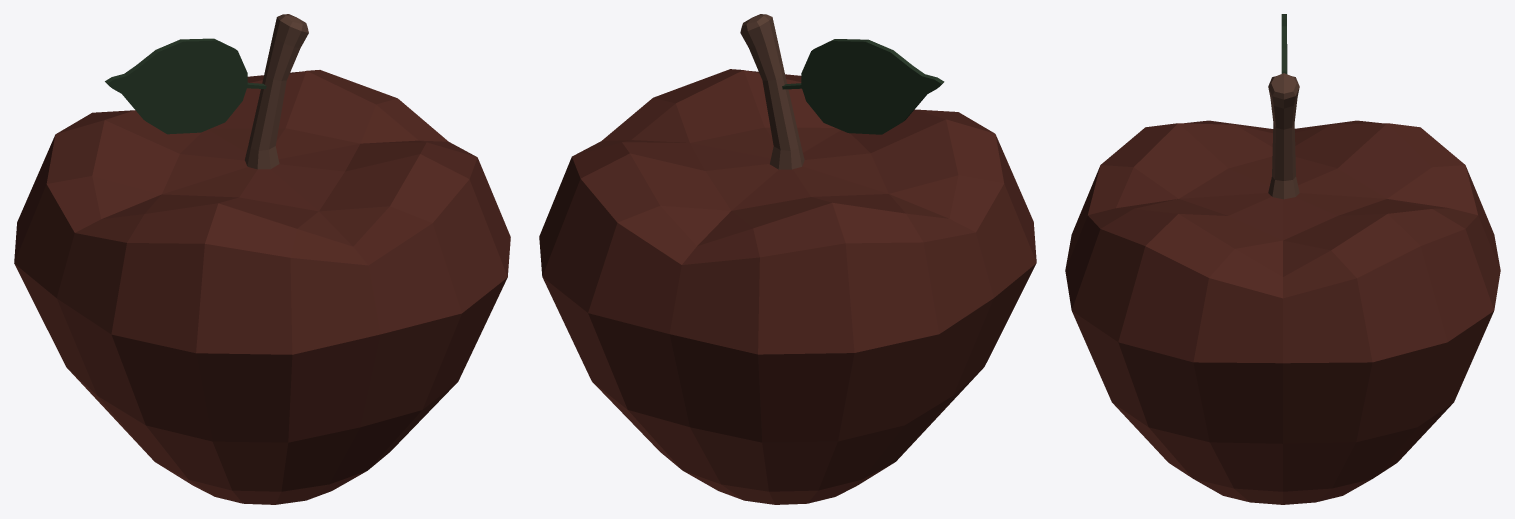
The model's file is apple.glb.
3 renders of one model, left to right at view 1: azimuth 30°, elevation 25°; view 2: azimuth 150°, elevation 25°; view 3: azimuth 270°, elevation 25°, orthographic. The views are drawn at different scales.
Parts seen in each view (by area): view 1: apple; view 2: apple; view 3: apple.
Part boxes in pixels (x1,y1,x2,y2): apple: (14,14,510,504); apple: (539,14,1036,504); apple: (1065,14,1500,504).
Size of the model in its own units: 0.0754 by 0.08 by 0.075.
